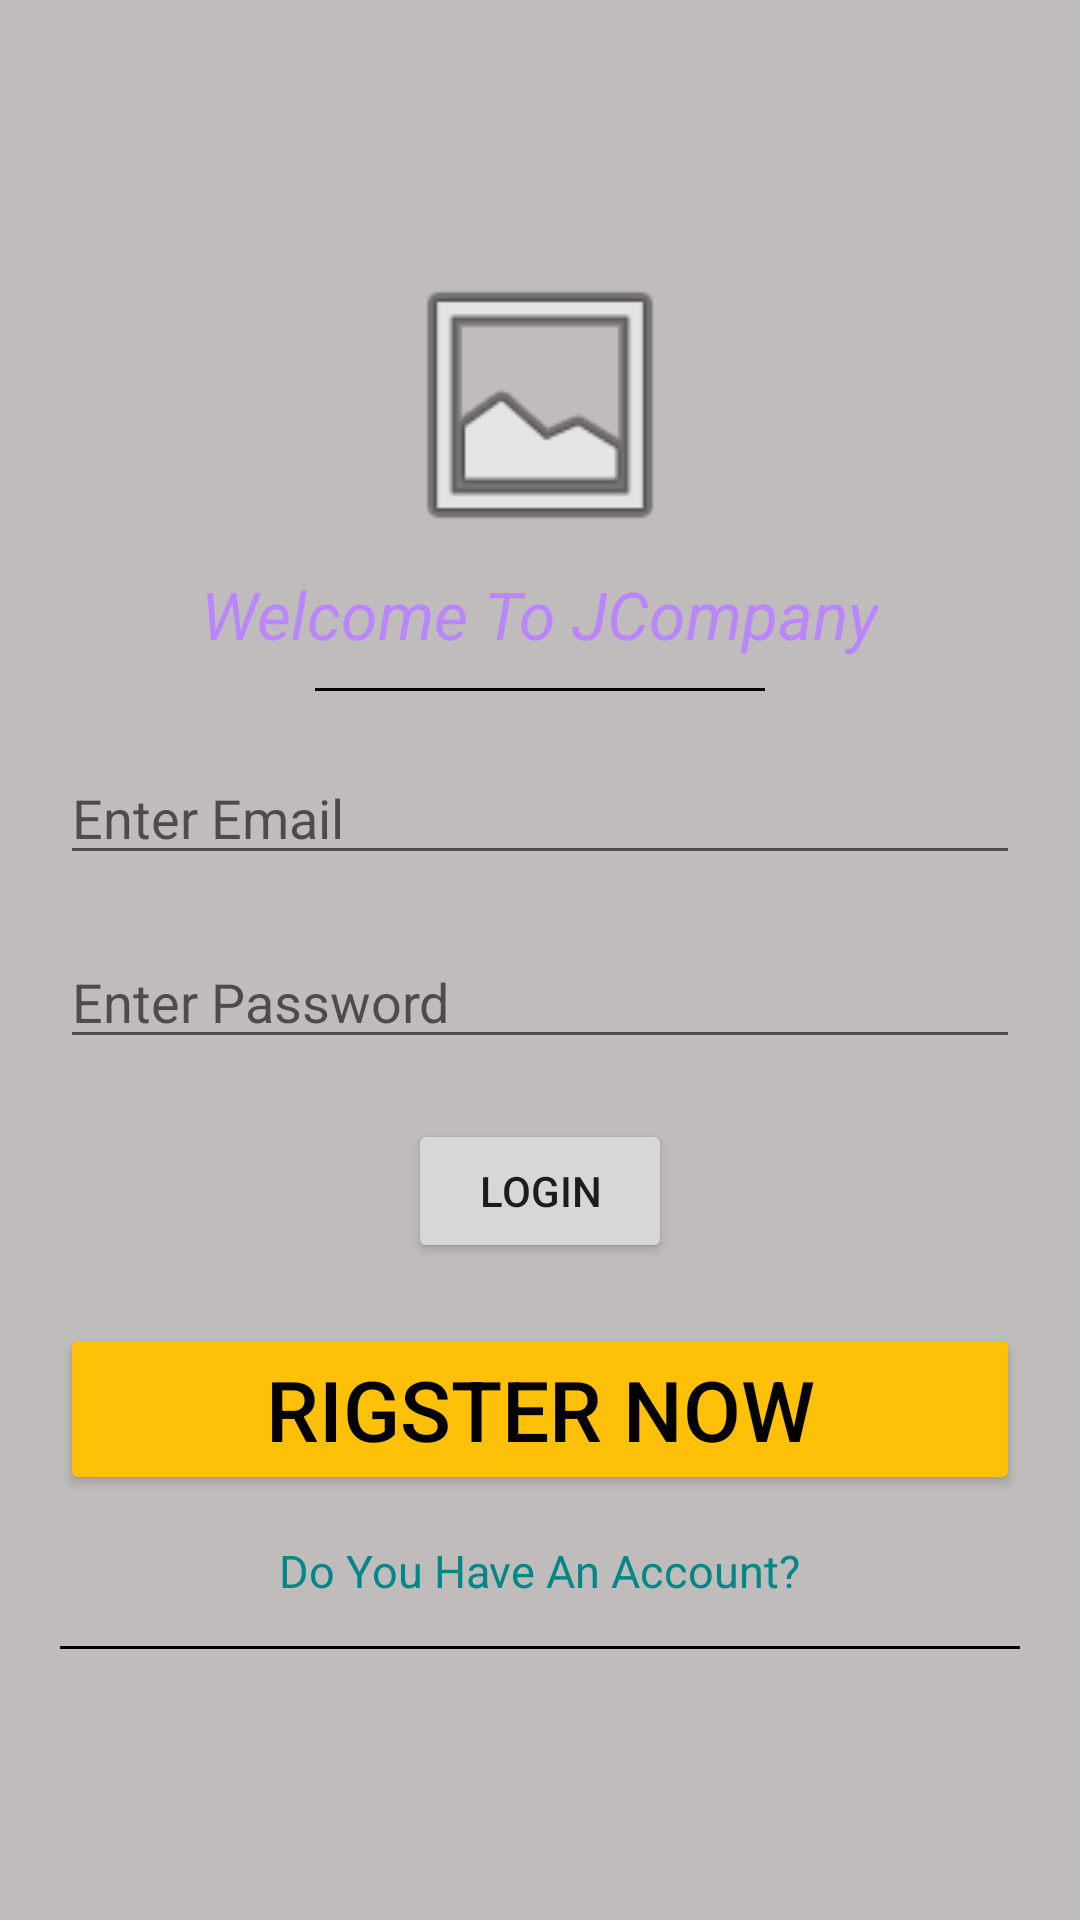

Icons on this 1080w x 1920h Android screen, each with its box as Rect(x1, y1, x2, y2):
gallery: Rect(427, 292, 653, 518)
